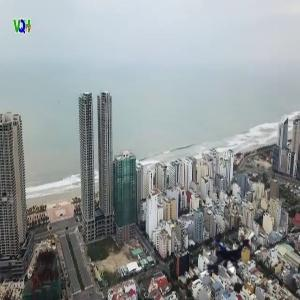drone: (183, 211, 260, 288)
